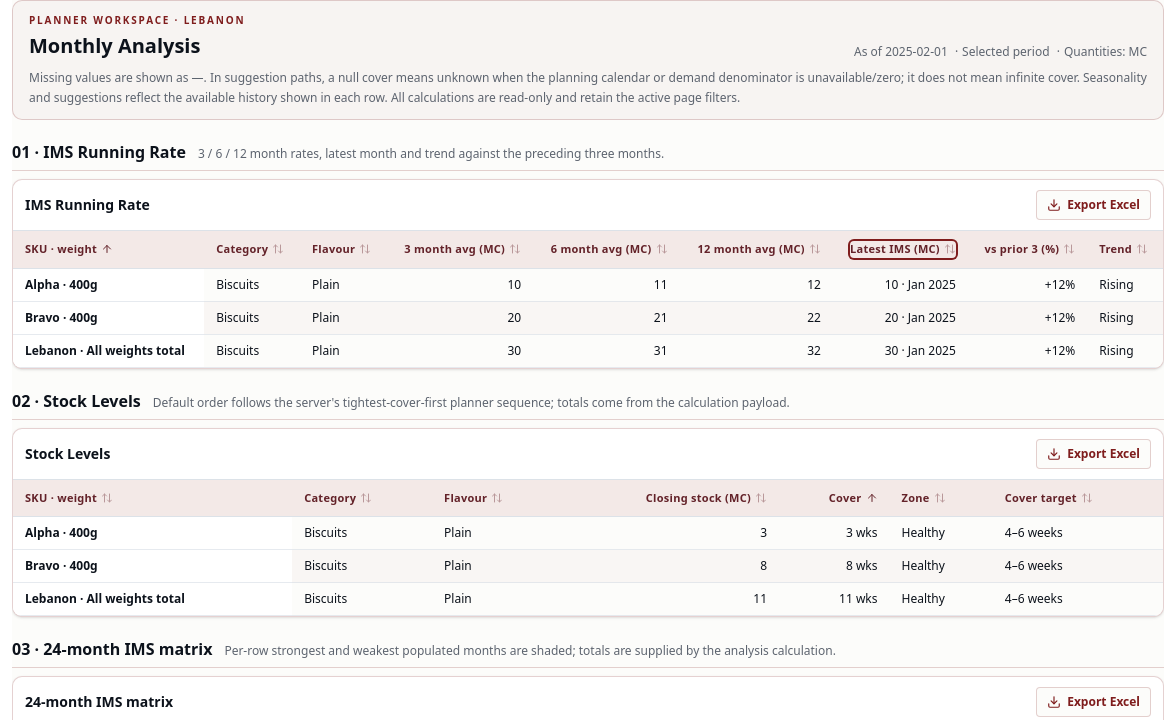
Scenario: MonthlyAnalysis planner › sorts values numerically with keyboard-accessible sort buttons
Press Enter in the button "Latest IMS (MC)", box [850,241,956,258]
Click the button "Latest IMS (MC)": (903, 249) [850,241,956,258]
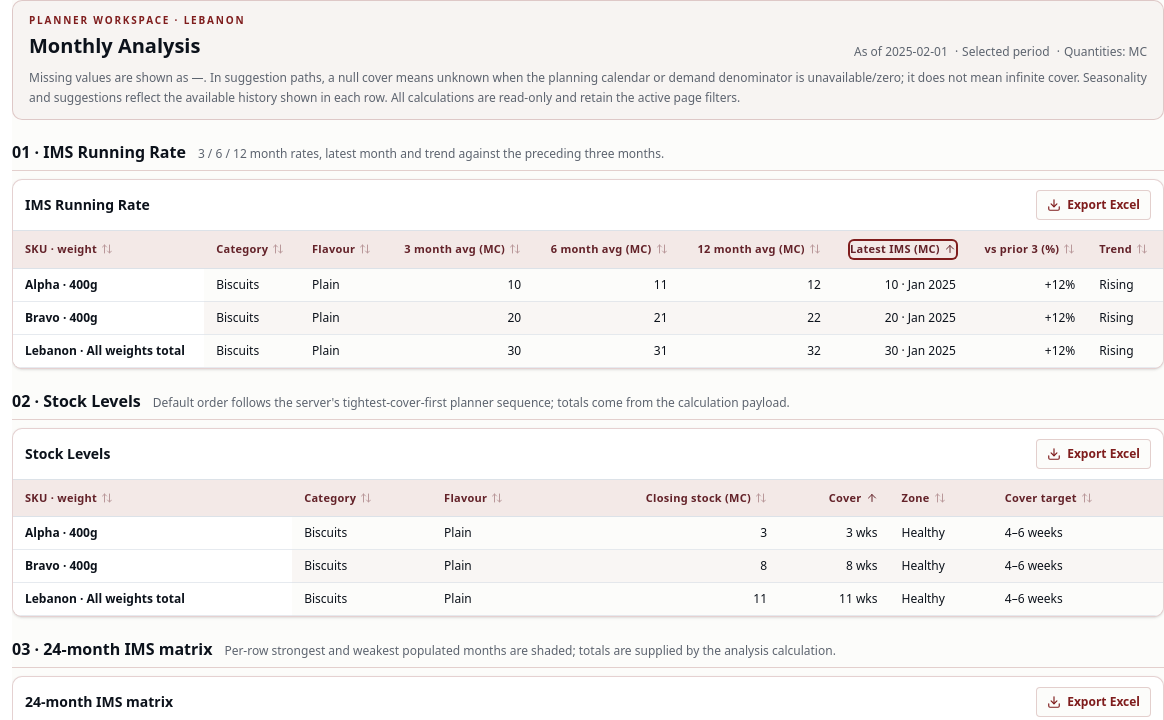
Check: the 2nd row shows "Alpha", box [25,276,98,292]
Check: the column heading "Latest IMS (MC)" has attribute aria-sort="ascending", box [833,231,968,268]
